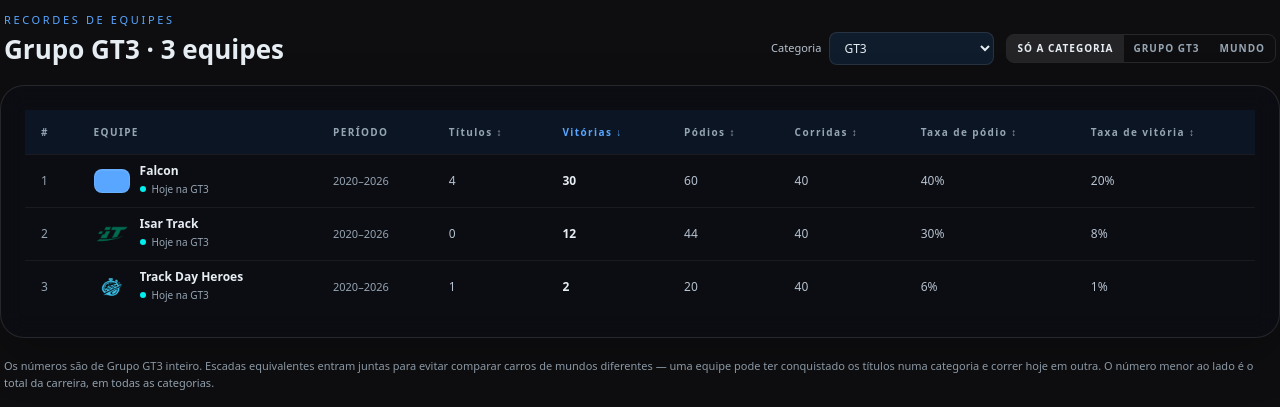
it: TeamRecordsTab — amplitude › nomeia o grupo da categoria selecionada no próprio botão
Expected: the button "Grupo GT3" is shown, [1124,35,1210,62]
Select "Mazda Rookie" in the dropdown with test id "team-records-category": [912, 48] box [829,32,994,65]
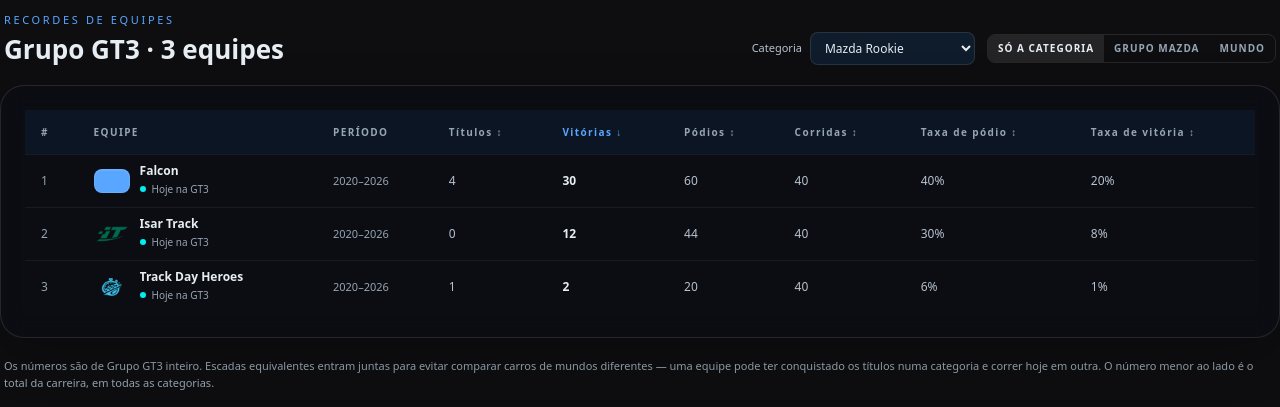
Expected: the button "Grupo Mazda" is shown, [1104,35,1210,62]
